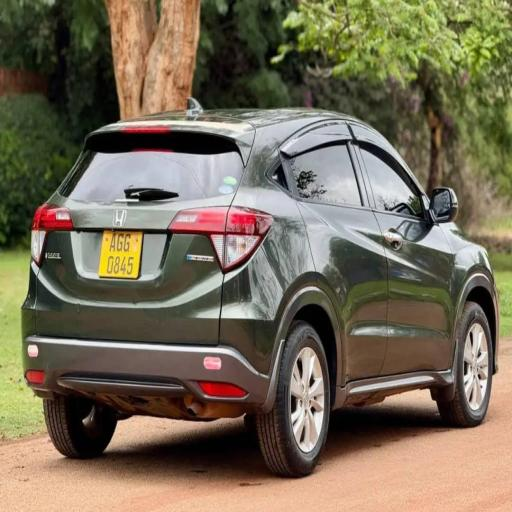number-plates: (100, 228, 138, 276)
